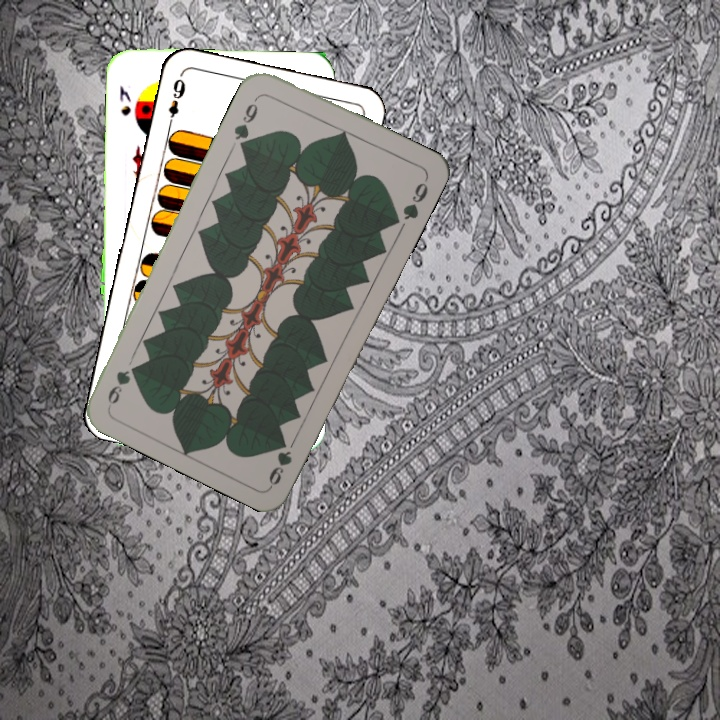E9: (164, 72, 188, 130)
G9: (229, 91, 263, 149), (264, 434, 295, 488)
SK: (115, 81, 133, 118)
